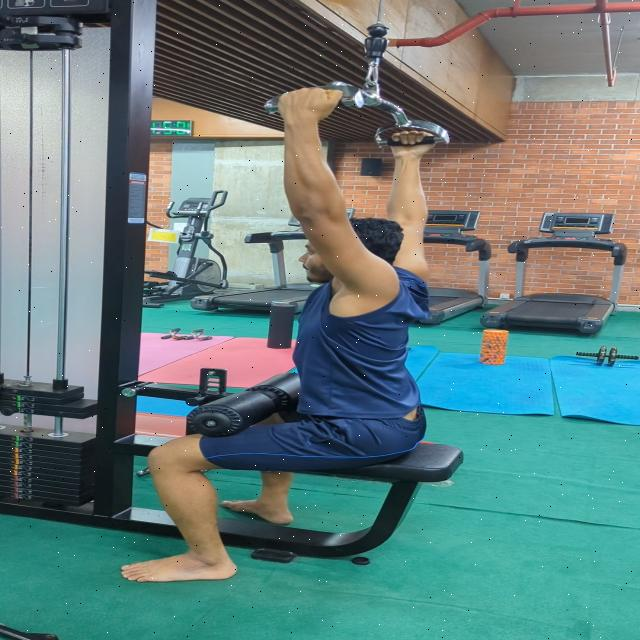Normal_LatPulldown: (71, 72, 477, 590)
